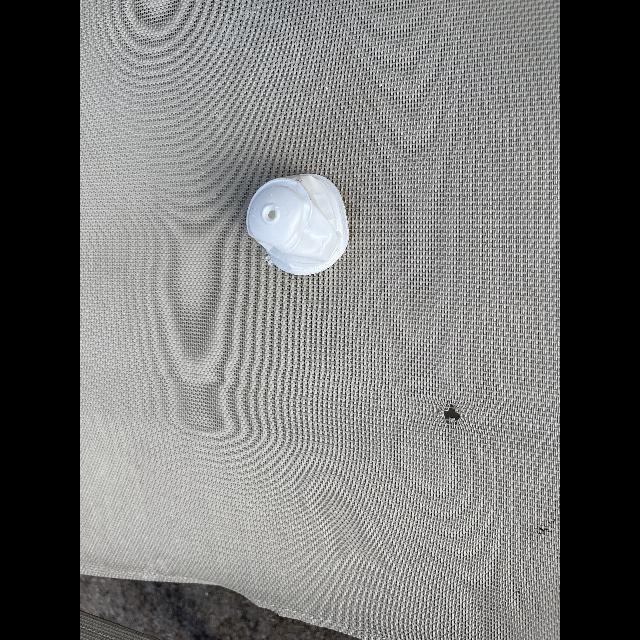damaged_capsule: (244, 170, 364, 280)
